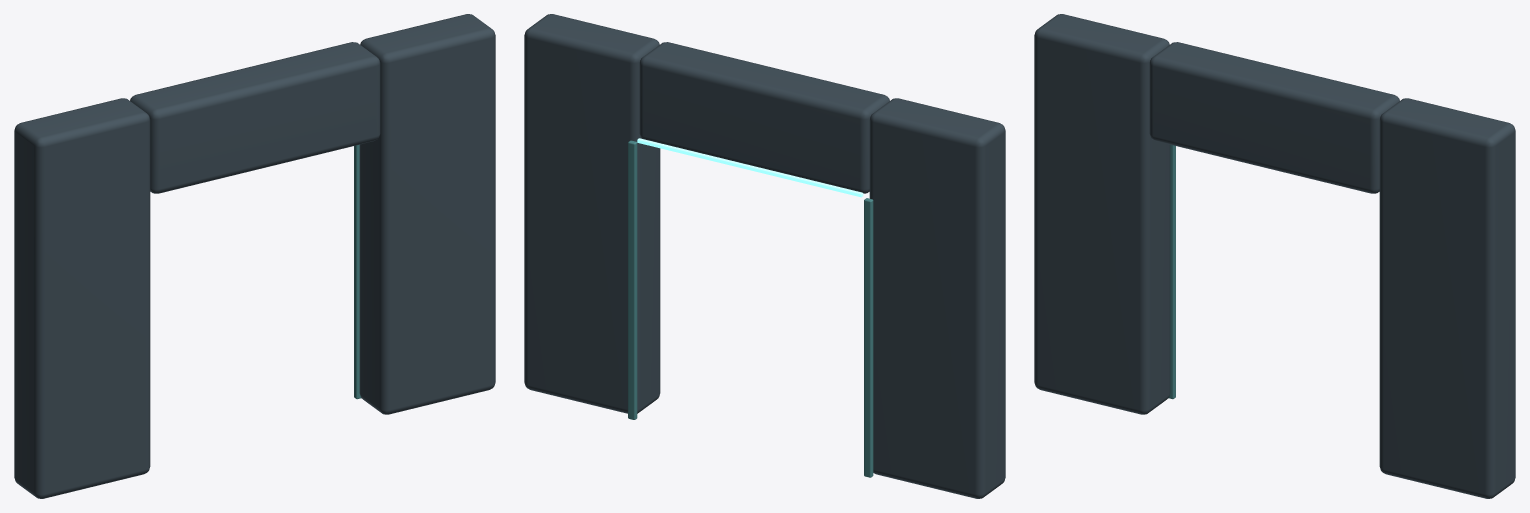
File: window.glb
3 renders of one model, left to right at view 1: azimuth 30°, elevation 25°; view 2: azimuth 150°, elevation 25°; view 3: azimuth 330°, elevation 25°, orthographic.
Parts seen in each view (by area): view 1: window; view 2: window; view 3: window.
Part boxes in pixels (x1=…): window: x1=14, y1=14, x2=495, y2=498; window: x1=524, y1=14, x2=1005, y2=498; window: x1=1034, y1=14, x2=1515, y2=498.
Bounding box in the file's own units: 8 × 6 × 0.875.
